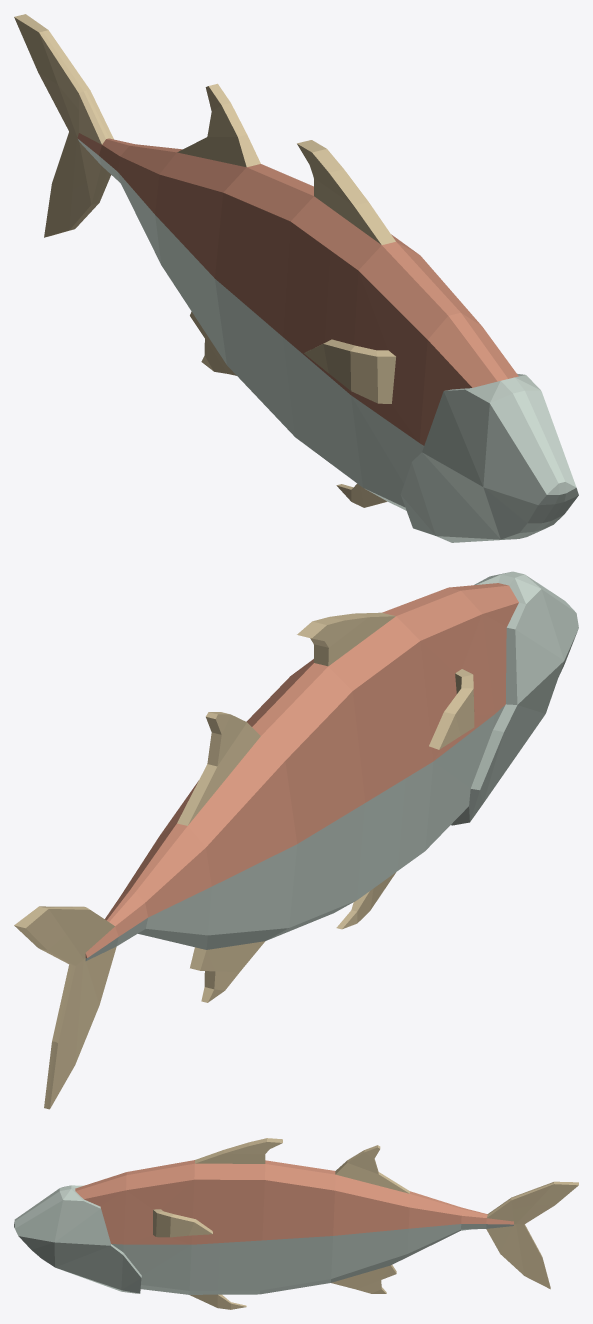
The model's file is fish1.glb.
The picture shows the model from 3 angles, top to bottom: view 1: azimuth 30°, elevation 25°; view 2: azimuth 150°, elevation 25°; view 3: azimuth 270°, elevation 25°; orthographic projection. The views are drawn at different scales.
Visible parts, largest first — view 1: Fish_Cube; view 2: Fish_Cube; view 3: Fish_Cube.
Part boxes in pixels (box(x1,y1,x2,y2)): Fish_Cube: box(14, 14, 578, 542); Fish_Cube: box(14, 571, 578, 1109); Fish_Cube: box(14, 1138, 578, 1309).
Bounding box in the file's own units: 1.15 × 2.65 × 8.02.
